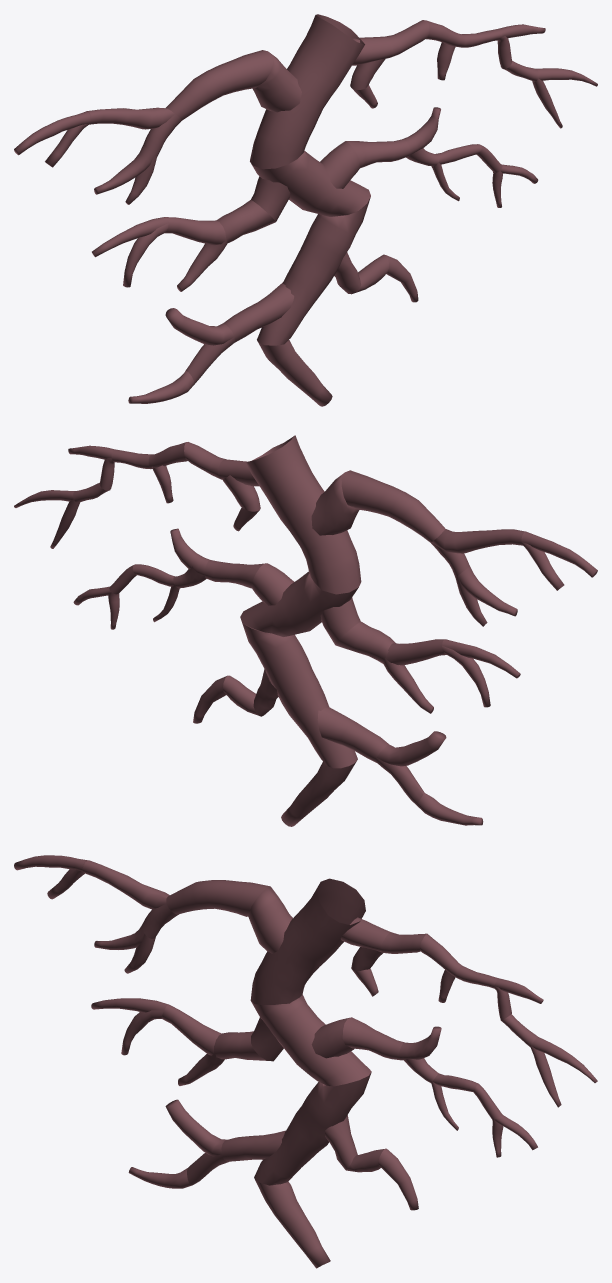
The model's file is Roots.fbx.
3 views of the same model, one above another, from view 1: azimuth 30°, elevation 25°; view 2: azimuth 150°, elevation 25°; view 3: azimuth 330°, elevation 25° (orthographic).
Parts seen in each view (by area): view 1: MainRoot.001, MainRoot.003, MainRoot.002, RootLV1_L.004, MainRoot.004, RootLV3_L.002, RootLV1_L.002, RootLV1_L.007, RootLV2_L.005, RootLV3_L, RootLV2_L, RootLV2_R.002 (+21 smaller); view 2: MainRoot.001, MainRoot.003, MainRoot.002, RootLV1_L.004, RootLV3_L.002, MainRoot.004, RootLV1_L.002, RootLV1_L.007, RootLV2_L.005, RootLV3_L, RootLV2_R.002, RootLV2_L (+21 smaller); view 3: MainRoot.001, MainRoot.003, MainRoot.002, RootLV1_L.004, MainRoot.004, RootLV1_L.002, RootLV1_L.007, RootLV2_R.004, RootLV3_L.002, RootLV3_L, RootLV2_L, RootLV2_L.005 (+19 smaller).
Boxes of the visible parts, <box> form: MainRoot.001: <box>250,14,364,169</box>; MainRoot.003: <box>257,197,370,345</box>; MainRoot.002: <box>250,151,370,216</box>; RootLV1_L.004: <box>165,50,273,120</box>; MainRoot.004: <box>257,340,332,406</box>; RootLV3_L.002: <box>223,282,294,342</box>; RootLV1_L.002: <box>253,52,301,112</box>; RootLV1_L.007: <box>87,107,174,129</box>; RootLV2_L.005: <box>216,200,275,242</box>; RootLV3_L: <box>165,308,234,345</box>; RootLV2_L: <box>164,217,226,245</box>; RootLV2_R.002: <box>320,141,359,188</box>; MainRoot.001: <box>246,435,361,594</box>; MainRoot.003: <box>242,623,357,768</box>; MainRoot.002: <box>240,571,358,636</box>; RootLV1_L.004: <box>341,470,445,542</box>; RootLV3_L.002: <box>317,706,388,762</box>; MainRoot.004: <box>281,761,356,826</box>; RootLV1_L.002: <box>311,473,359,535</box>; RootLV1_L.007: <box>431,529,525,553</box>; RootLV2_L.005: <box>335,621,395,663</box>; RootLV3_L: <box>377,731,446,766</box>; RootLV2_R.002: <box>251,563,293,605</box>; RootLV2_L: <box>386,639,446,665</box>; MainRoot.001: <box>250,878,365,1004</box>; MainRoot.003: <box>254,1072,371,1185</box>; MainRoot.002: <box>251,994,371,1086</box>; RootLV1_L.004: <box>166,880,269,916</box>; MainRoot.004: <box>255,1180,330,1268</box>; RootLV1_L.002: <box>248,886,292,953</box>; RootLV1_L.007: <box>82,860,169,909</box>; RootLV2_R.004: <box>342,1017,404,1060</box>; RootLV3_L.002: <box>221,1130,285,1161</box>; RootLV3_L: <box>165,1099,227,1156</box>; RootLV2_L: <box>161,1004,221,1055</box>; RootLV2_L.005: <box>214,1031,266,1060</box>.
Bounding box in the file's own units: 2071 × 1312 × 179.
